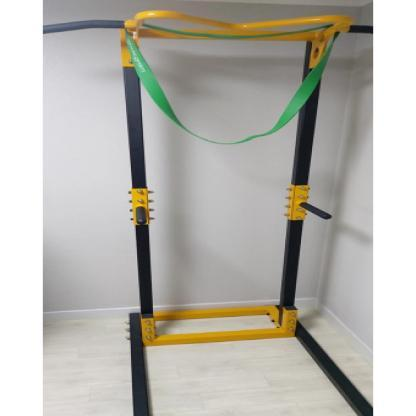chinning dipping: (45, 0, 373, 416)
